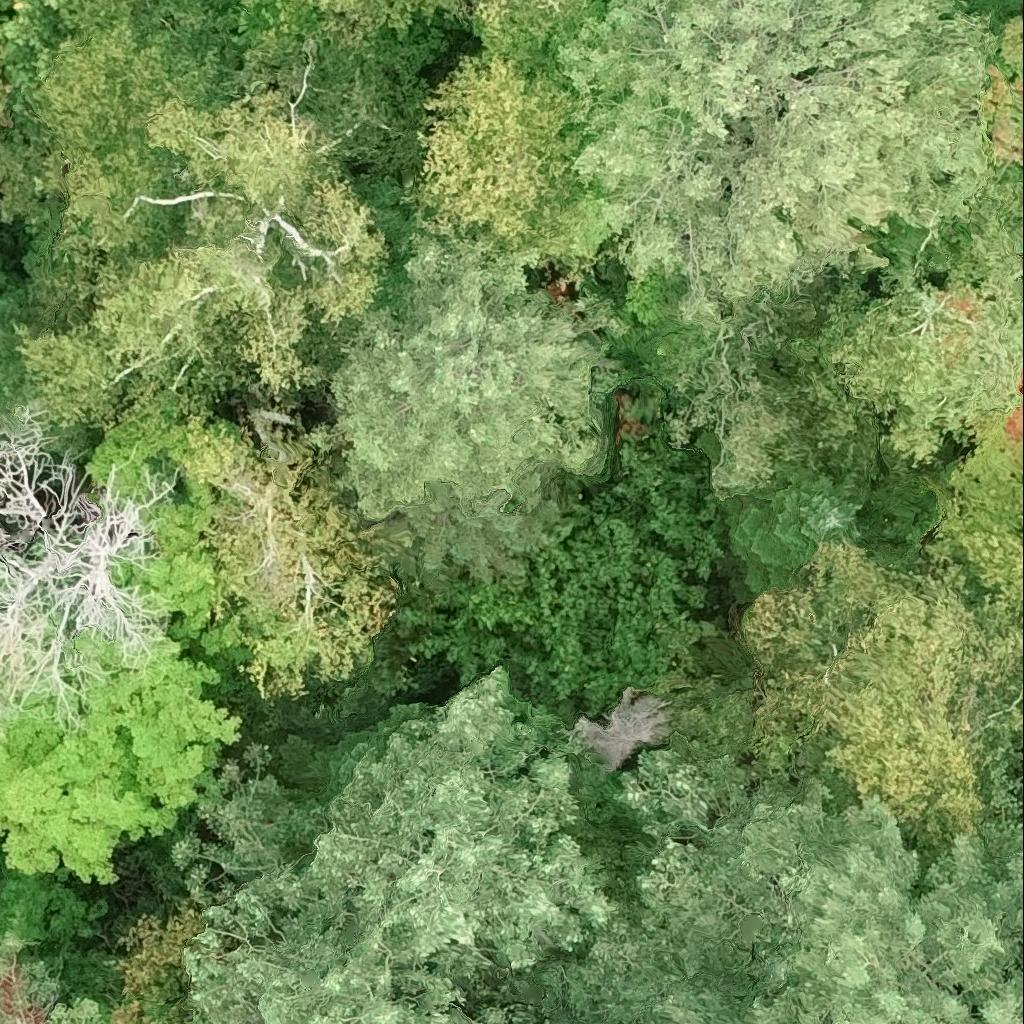crown: (556, 0, 1023, 495), (13, 31, 407, 462), (0, 403, 263, 882), (546, 735, 976, 1023), (302, 666, 632, 973), (742, 547, 1023, 880), (172, 745, 484, 1023), (0, 0, 242, 333), (339, 253, 611, 515), (787, 216, 1023, 466), (0, 407, 175, 738), (399, 0, 611, 269), (179, 430, 393, 695), (530, 516, 690, 698), (402, 469, 570, 582), (925, 838, 1023, 1023), (927, 453, 1023, 640), (279, 704, 420, 810), (740, 470, 865, 588), (234, 0, 463, 64), (962, 664, 1023, 820), (562, 687, 671, 771), (0, 930, 98, 1023), (0, 270, 45, 432), (0, 0, 72, 101), (951, 388, 1023, 478), (983, 814, 1023, 859), (459, 0, 489, 38), (0, 79, 13, 125), (480, 1007, 514, 1023), (1018, 368, 1023, 390), (0, 45, 1, 57)
